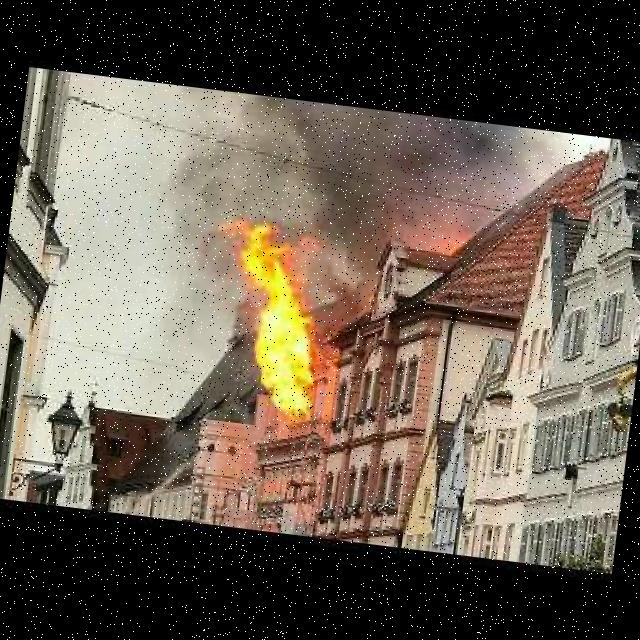fire: (178, 184, 352, 433)
